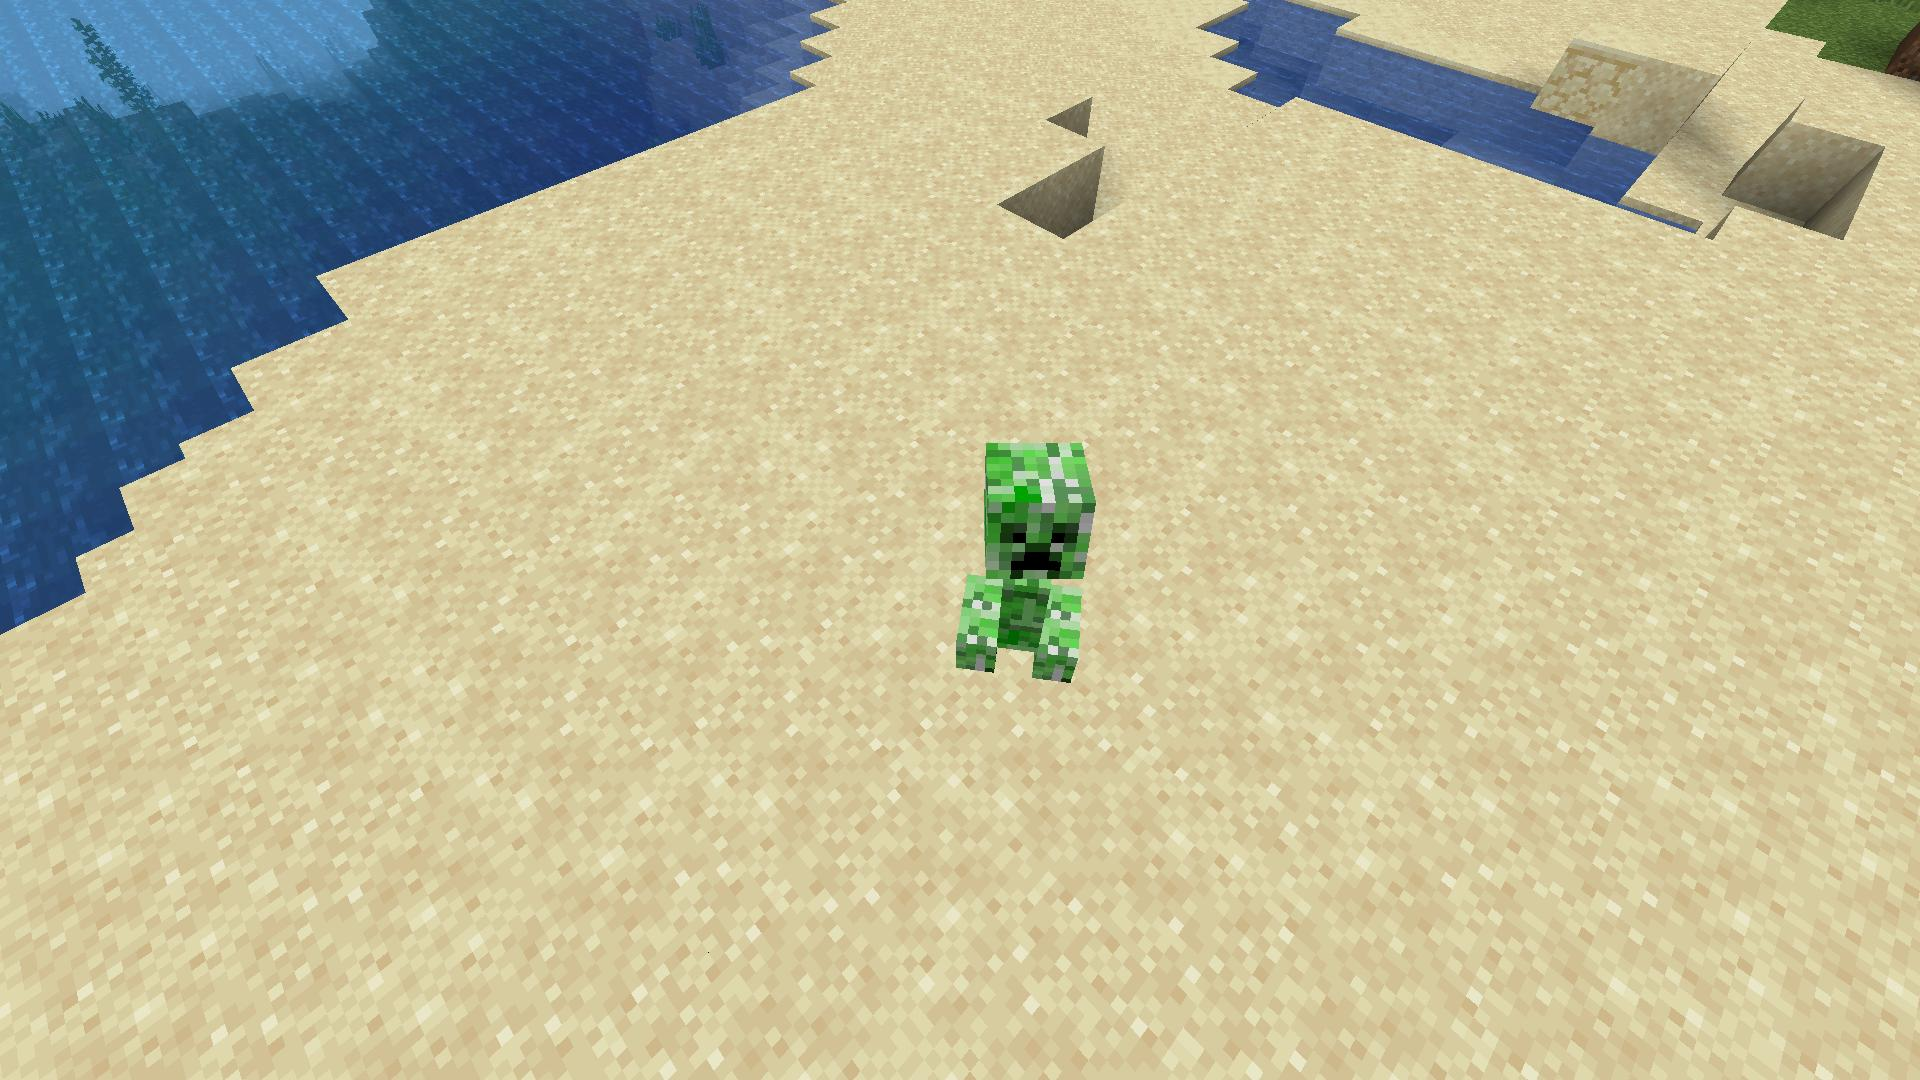creeper: (951, 430, 1102, 694)
